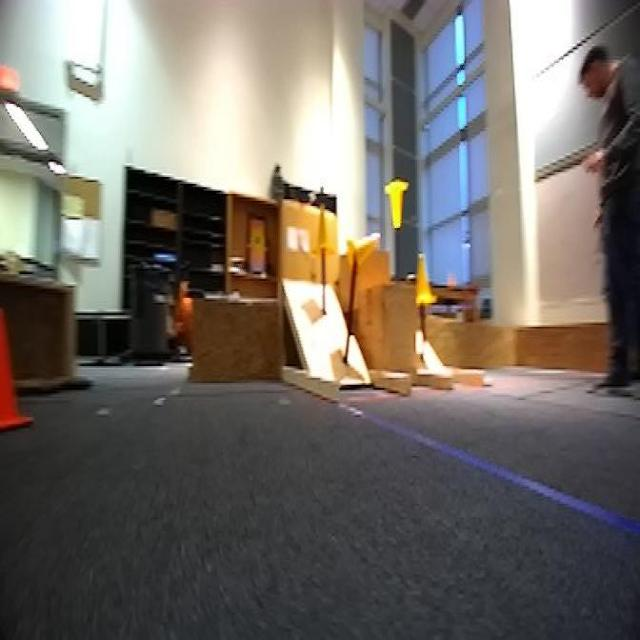frc_cone: (345, 226, 381, 274), (384, 181, 408, 228), (414, 254, 434, 306), (314, 204, 332, 252)
